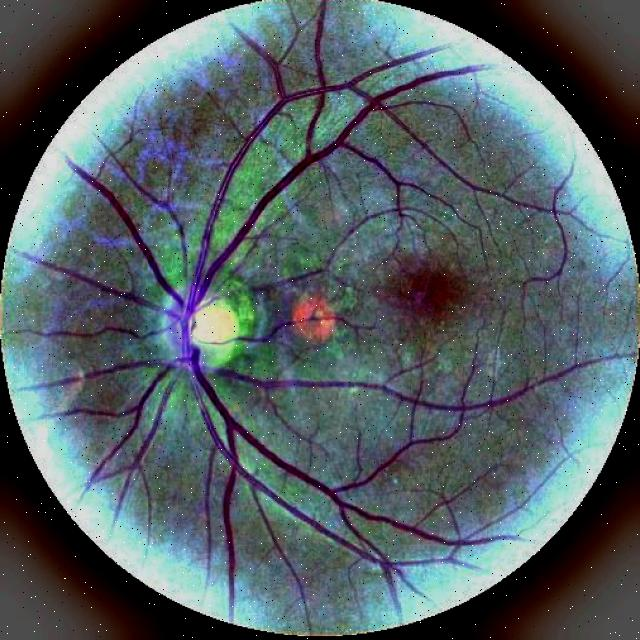Macula: (390, 264, 462, 319)
Nerves: (73, 67, 479, 446), (188, 348, 422, 536), (257, 484, 363, 558), (23, 258, 158, 309), (219, 371, 402, 400), (310, 54, 421, 101), (127, 382, 176, 482), (43, 358, 163, 391), (124, 381, 157, 443), (223, 479, 234, 618), (26, 326, 144, 338)
Optic Disk: (161, 282, 263, 377)
